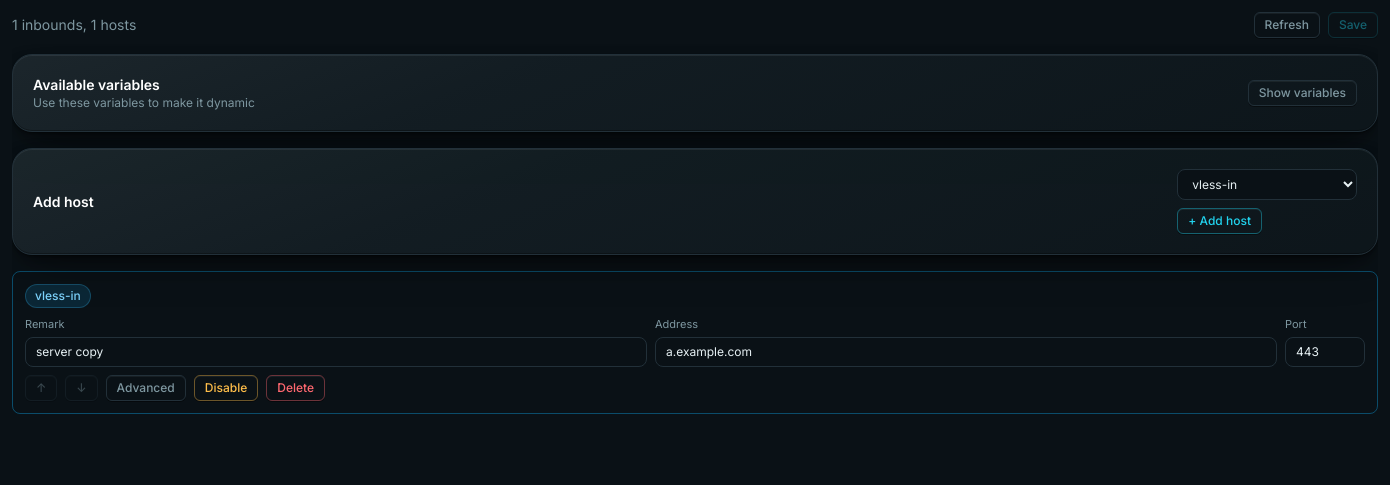
Test: saving › sends the edit, keeps saying it was saved, and is clean afterwards
The width and height of the screenshot is (1390, 485).
Replace the text in the field labelled "Remark" with "my edit" at {"x": 336, "y": 352}, box [25,336,647,366]
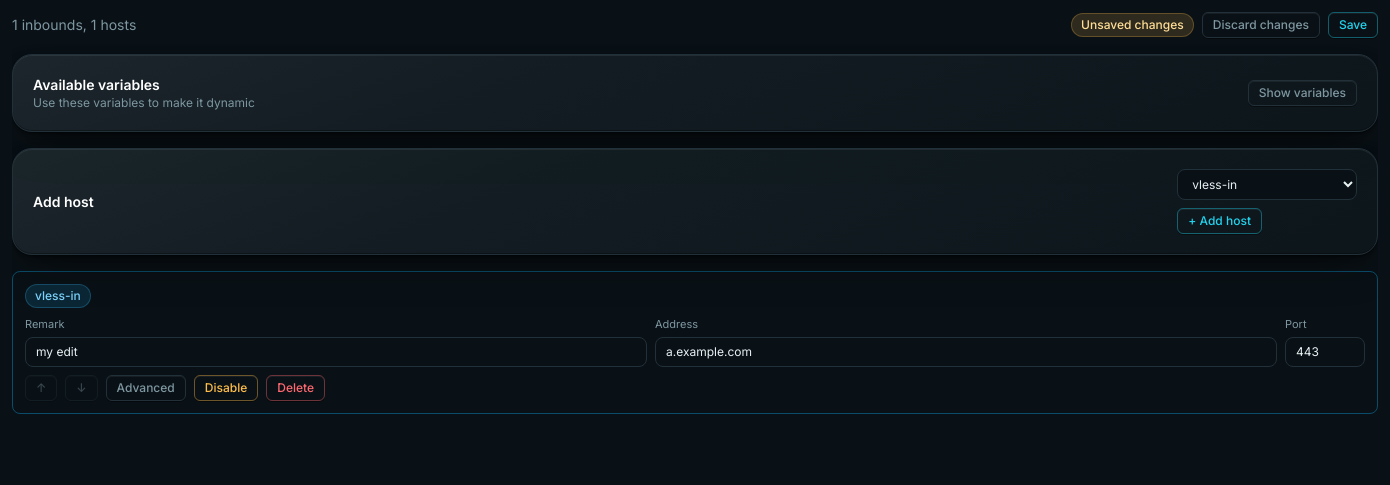
Click the button "Save".
click(1353, 25)  # box [1328,12,1378,38]
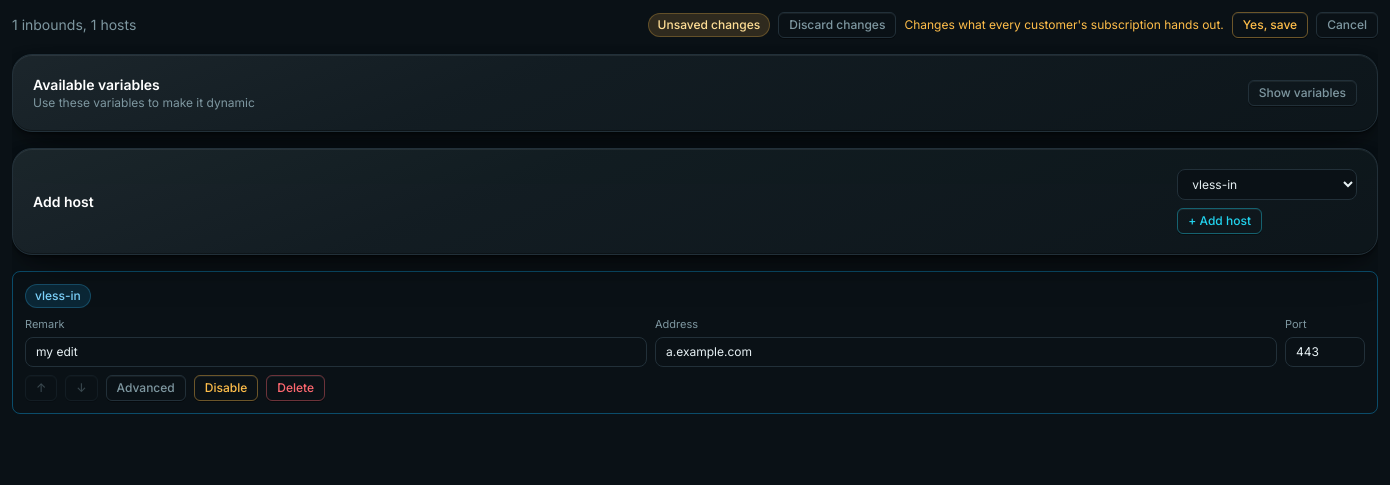
Click the button "Yes, save".
click(1270, 25)  # box [1232,12,1308,38]
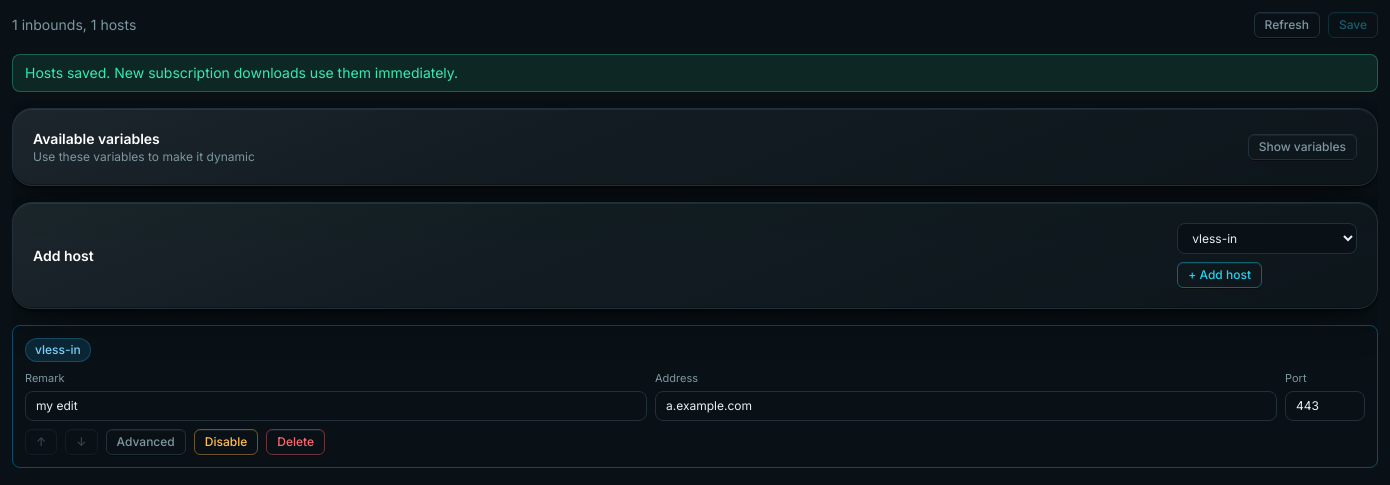
Expected: the text "Unsaved changes" is gone
Expected: the text "Hosts saved. New subscription downloads use them immediately." is shown, [12,54,1378,92]
